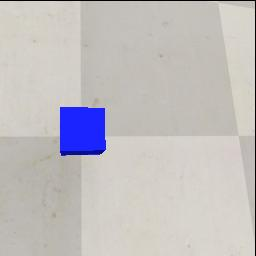box: (60, 107, 106, 156)
